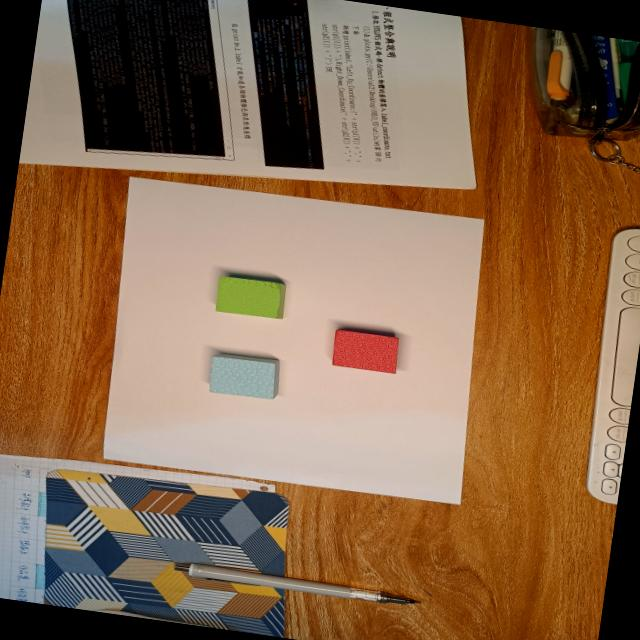BLUE: (209, 353, 281, 399)
GREEN: (215, 275, 288, 320)
RED: (332, 328, 399, 374)
